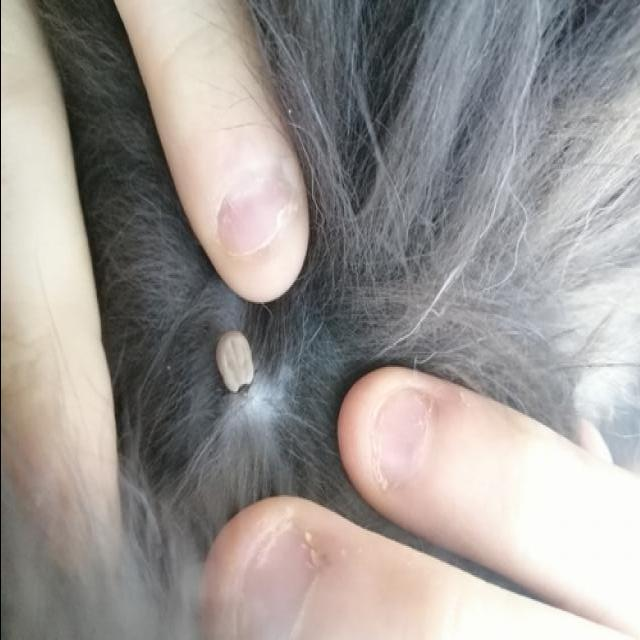Ixodes Ricinus-F-Fed: (207, 328, 255, 398)
